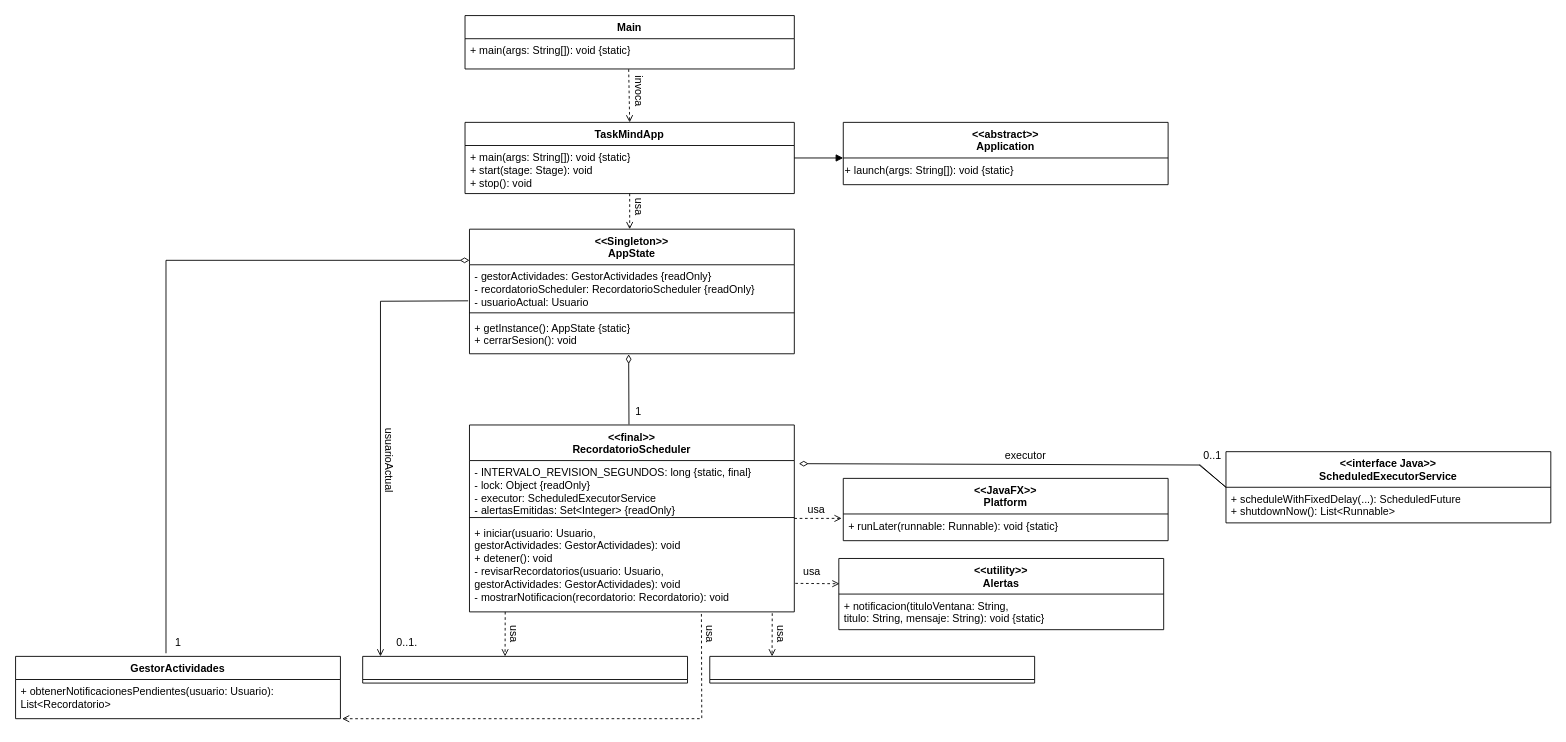
Some shapes in this 1566 by 742 pixel diagram are drawn without their labels. Each missing label, with the centre of its shape:
Recordatorio: point 872,669
Usuario: point 525,669
